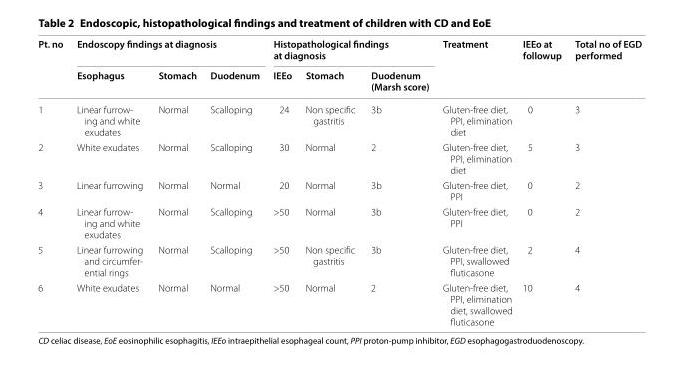table: (37, 37, 641, 327)
table column: (435, 37, 516, 327), (69, 37, 149, 327), (567, 37, 641, 327), (362, 37, 435, 327), (298, 37, 362, 327), (202, 37, 265, 327), (149, 37, 202, 327), (516, 37, 567, 327), (265, 37, 298, 327), (37, 37, 69, 327)
table column header: (37, 37, 641, 97)
table row: (37, 279, 641, 327), (37, 97, 641, 139), (37, 139, 641, 177), (37, 203, 641, 241), (37, 241, 641, 279), (37, 64, 641, 97), (37, 37, 641, 64), (37, 177, 641, 203)
table spanning cell: (69, 37, 265, 64), (435, 37, 516, 97), (265, 37, 435, 64), (567, 37, 641, 97), (516, 37, 567, 97), (37, 37, 69, 97)
